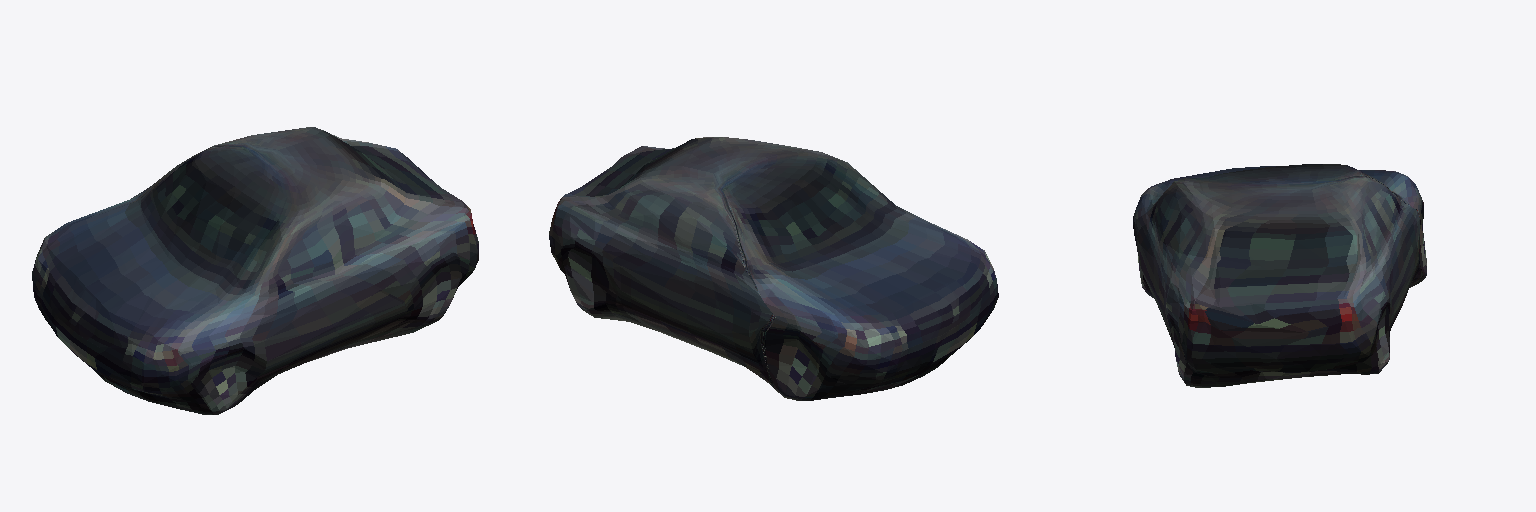
3 views of the same model, side by side, from view 1: azimuth 30°, elevation 25°; view 2: azimuth 150°, elevation 25°; view 3: azimuth 270°, elevation 25° (orthographic).
Bounding box in the file's own units: 1 × 0.4389 × 0.6813.
Materials: 1 (1 with a texture image).